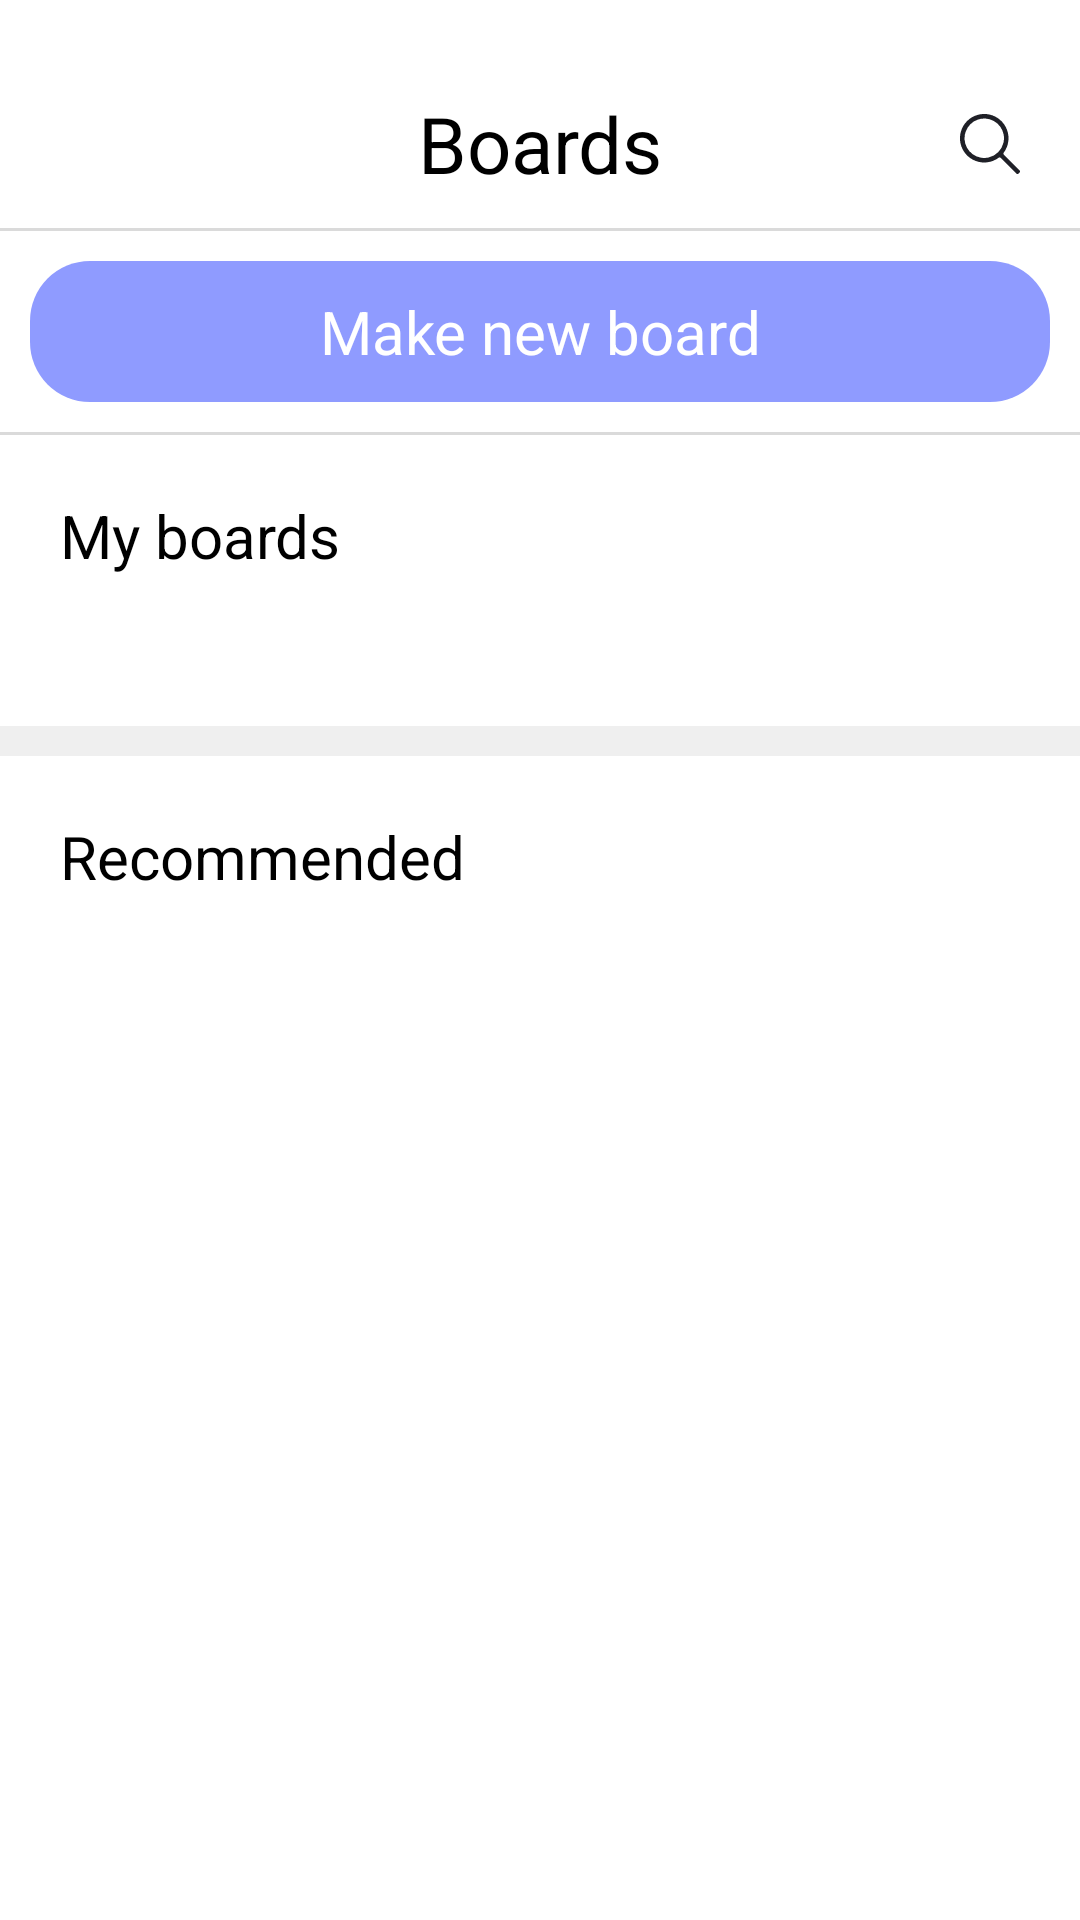

Where to tap for icons on this 1080*1920 app screen, as point (x, y):
search: point (990, 144)
